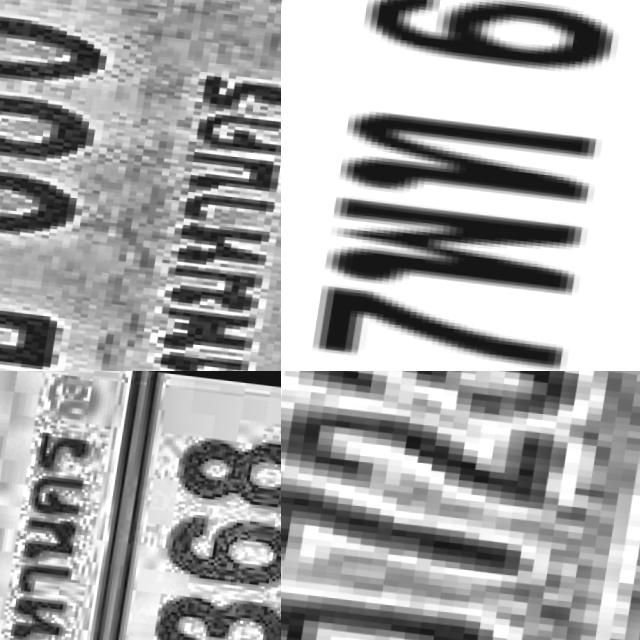license-plate: (281, 0, 640, 371), (0, 0, 281, 371), (281, 371, 640, 640), (60, 371, 281, 640), (0, 371, 141, 640)
